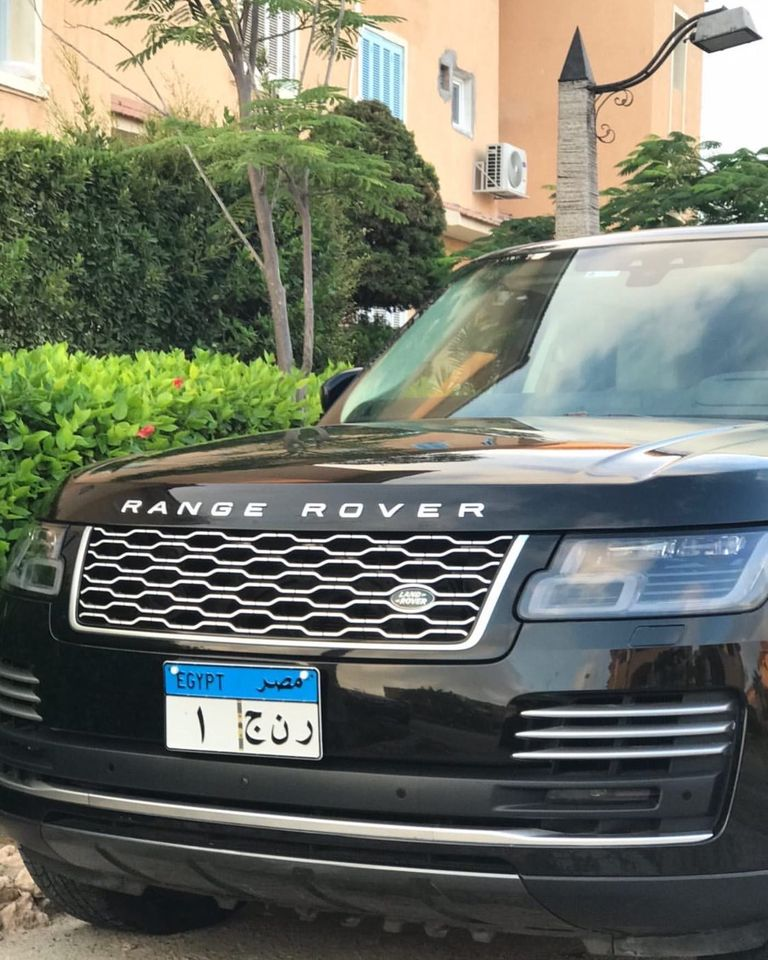carpl: (165, 700, 319, 758)
